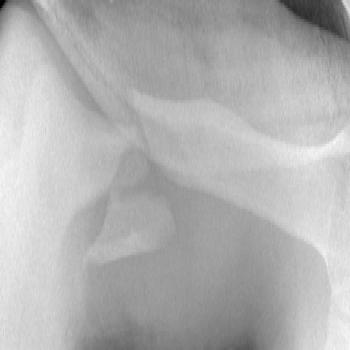Fracture: (80, 181, 118, 282)
